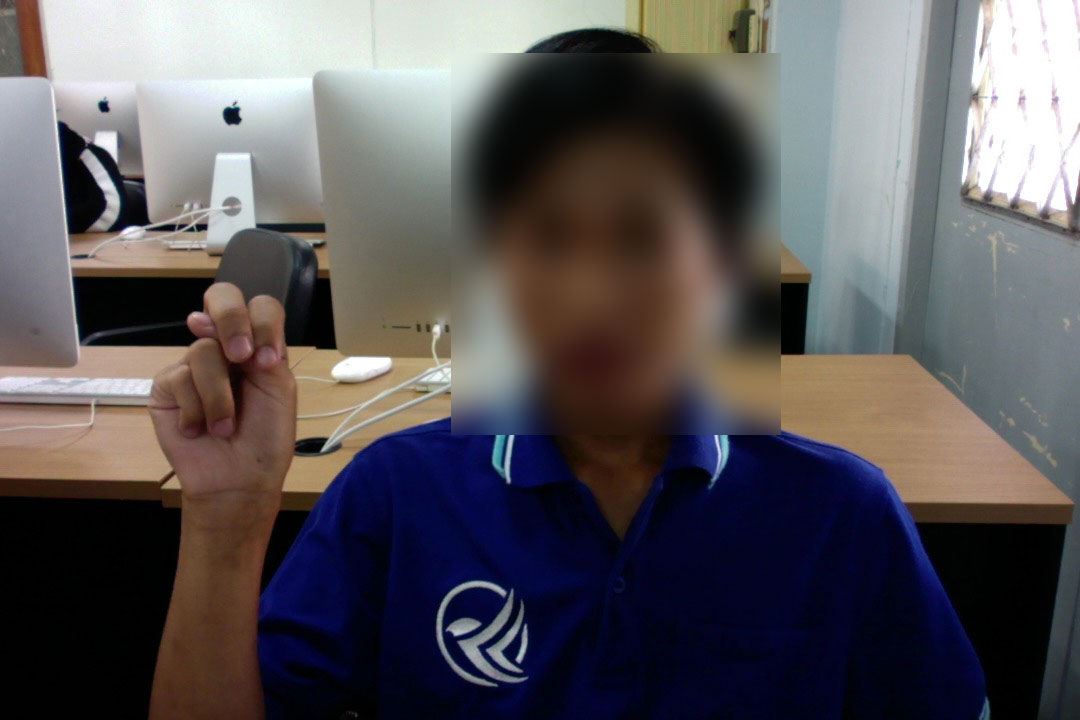nor: (147, 277, 302, 514)
